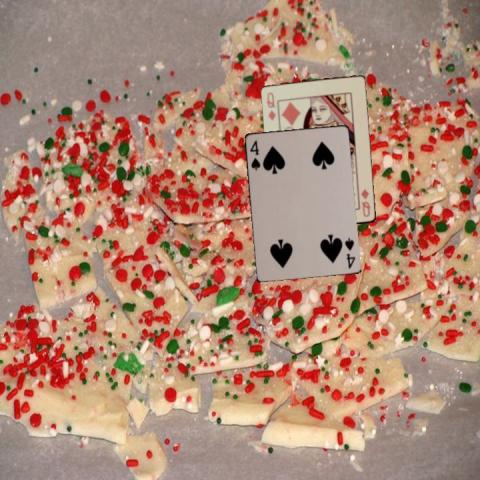4s: (341, 235, 357, 270), (247, 137, 261, 171)
Qd: (358, 186, 372, 219), (264, 90, 278, 122)
